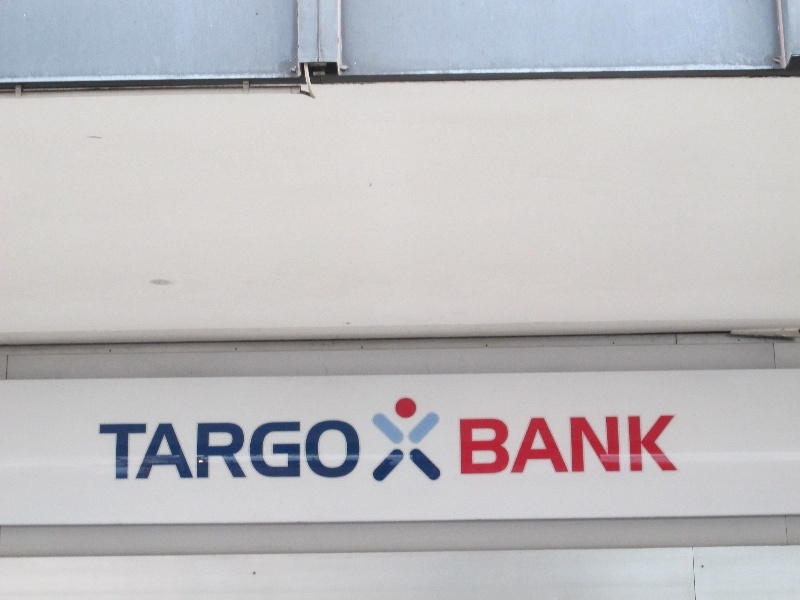text: (113, 420, 128, 481), (129, 420, 144, 481), (145, 420, 160, 481), (161, 420, 176, 481), (177, 420, 192, 481), (193, 420, 208, 481), (209, 420, 224, 481), (225, 420, 240, 481), (241, 420, 256, 481), (257, 420, 272, 481), (273, 420, 288, 481), (289, 420, 304, 481), (305, 420, 320, 481), (321, 420, 336, 481), (337, 420, 352, 481), (465, 416, 480, 477), (481, 416, 496, 477), (497, 416, 512, 477), (513, 416, 528, 477), (529, 416, 544, 477), (545, 416, 560, 477), (561, 416, 576, 477), (577, 416, 592, 477), (593, 416, 608, 477), (609, 416, 624, 477), (625, 416, 640, 477), (641, 416, 656, 477), (657, 416, 672, 477), (98, 420, 112, 481), (353, 420, 361, 481), (673, 416, 678, 477), (460, 416, 464, 477)
